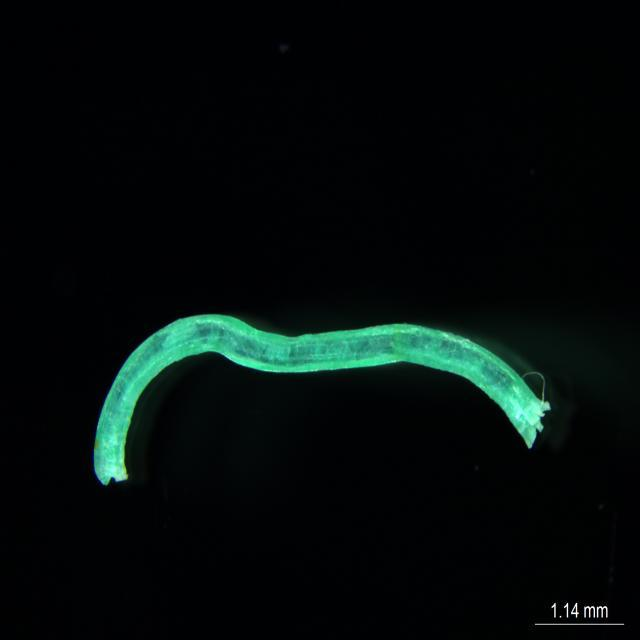fibers: (82, 285, 554, 486)
